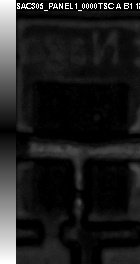led: (31, 82, 129, 213)
